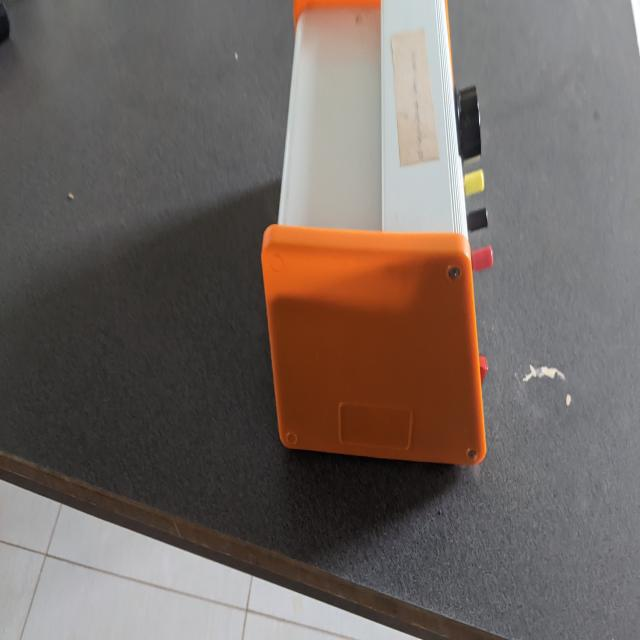AC and DC Power Supply 24V: (255, 0, 502, 470)
